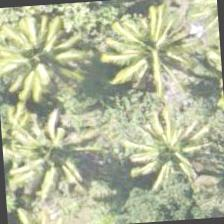Kelapa_Sawit: (128, 100, 224, 196), (105, 3, 201, 99), (0, 90, 94, 187), (0, 8, 83, 105)
